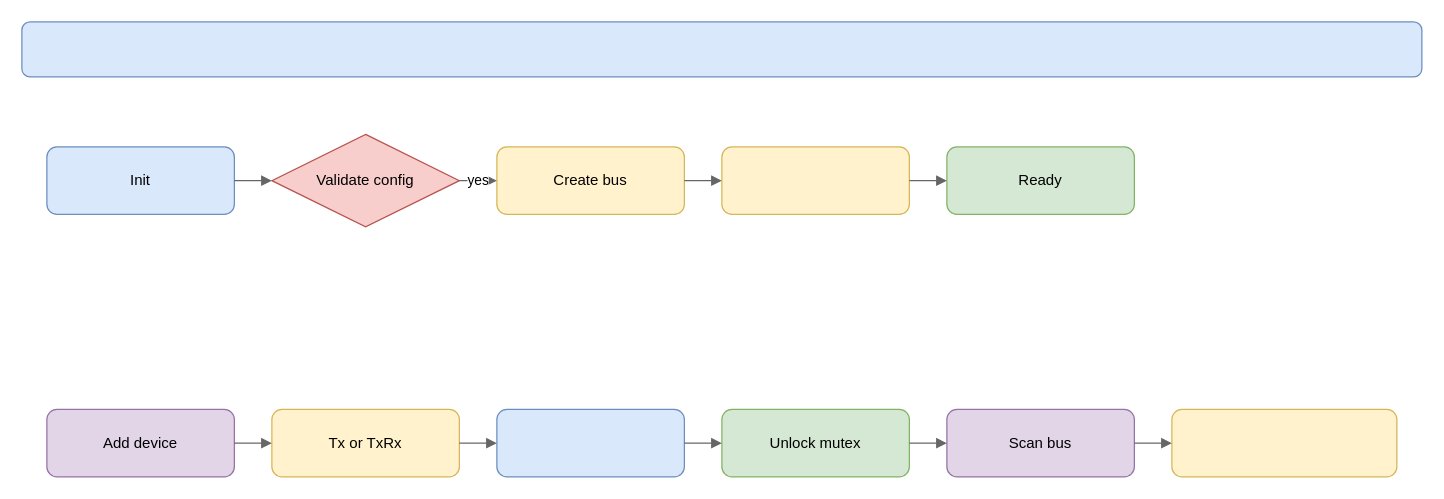
The diagram is 1444 pixels wide and 499 high, and some of its shapes have lost their labels. Here are the shapes that lost their labels. From the top down, the centre of each, then its label:
point (721, 49): I2C Wrapper
point (815, 180): Create mutex
point (590, 442): Lock mutex
point (1284, 442): Probe each address under lock
